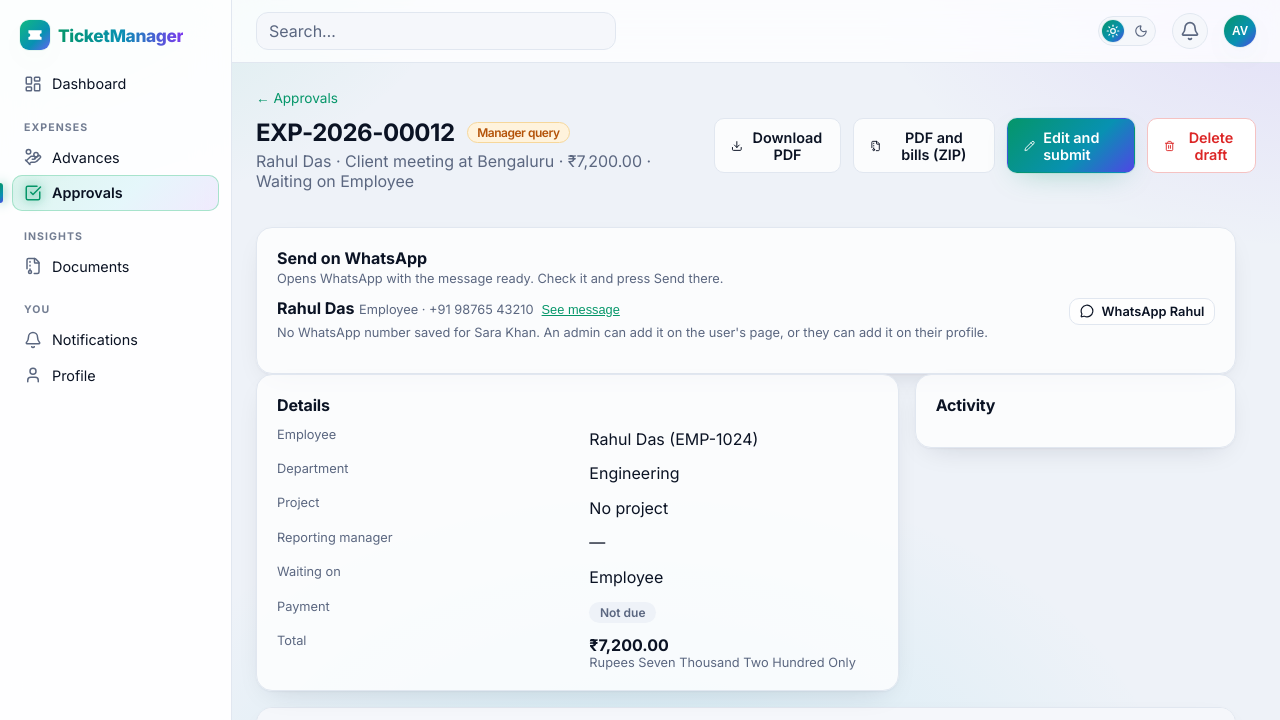
Test: WhatsApp › offers a ready message on a voucher, and names people with no number
Expected: the text "Employee · +91 98765 43210" is shown, [359,302,534,317]
Expected: the text "No WhatsApp number saved for Sara Khan" is shown, [277,325,988,340]
Click the button "See message" at [581, 310], box [542,302,620,317]
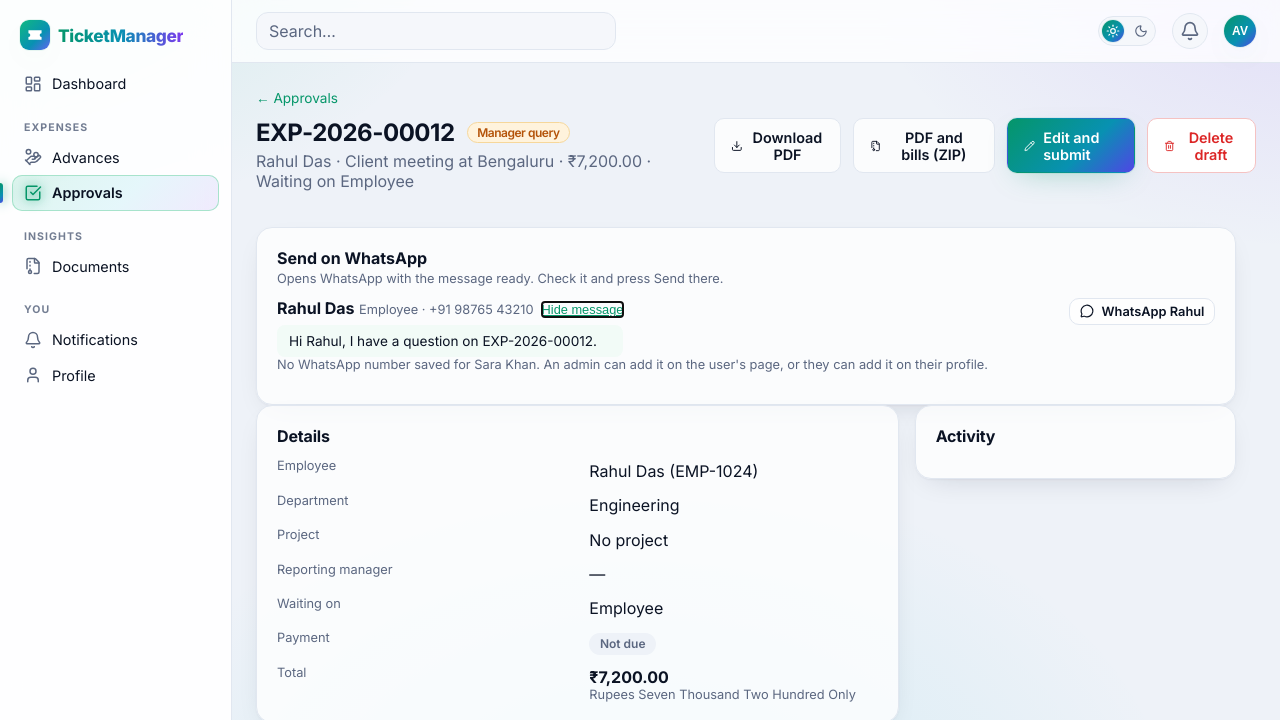
Result: the text "Hi Rahul, I have a question on EXP-2026-00012." is shown at [277,325,623,357]
